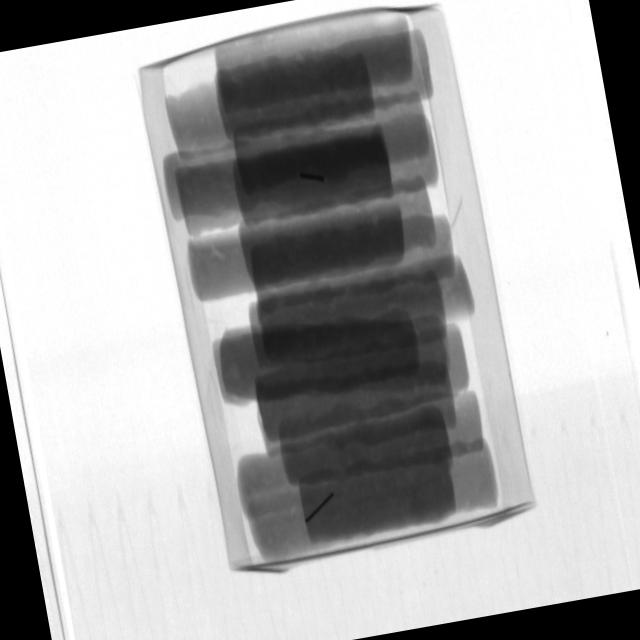ym: (303, 495, 336, 520), (300, 169, 326, 185)
